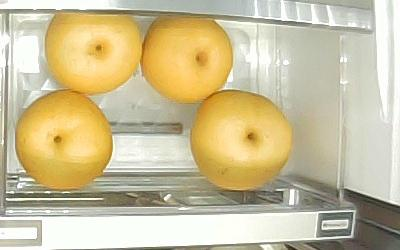pear: (190, 89, 294, 191), (14, 89, 114, 190), (44, 12, 142, 95), (142, 14, 233, 103)
